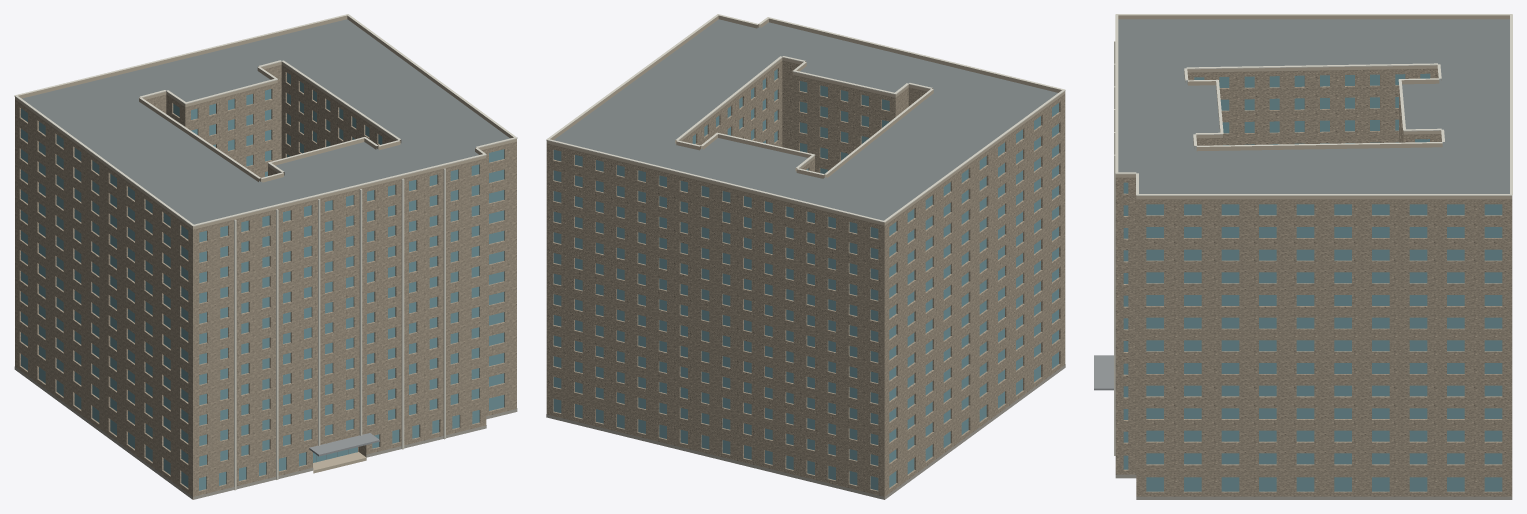
The picture shows the model from 3 angles, left to right: view 1: azimuth 30°, elevation 25°; view 2: azimuth 150°, elevation 25°; view 3: azimuth 270°, elevation 25°; orthographic projection. The views are drawn at different scales.
Visible parts, largest first — view 1: dormMale__wall, dormMale__roof, dormMale__glass, dormMale__trim, dormMale__parapet, dormMale__base, dormMale__canopy, dormMale__entranceThreshold_0; view 2: dormMale__wall, dormMale__roof, dormMale__glass, dormMale__parapet, dormMale__trim, dormMale__base; view 3: dormMale__wall, dormMale__roof, dormMale__glass, dormMale__parapet, dormMale__trim, dormMale__base, dormMale__canopy.
Part boxes in pixels (bbox=[...]): dormMale__wall: bbox=[15, 64, 516, 499]; dormMale__roof: bbox=[22, 19, 509, 224]; dormMale__glass: bbox=[21, 73, 504, 490]; dormMale__trim: bbox=[14, 14, 517, 490]; dormMale__parapet: bbox=[15, 15, 516, 229]; dormMale__base: bbox=[14, 366, 517, 499]; dormMale__canopy: bbox=[309, 433, 379, 456]; dormMale__entranceThreshold_0: bbox=[313, 452, 366, 473]; dormMale__wall: bbox=[546, 60, 1065, 499]; dormMale__roof: bbox=[554, 19, 1057, 220]; dormMale__glass: bbox=[553, 69, 1058, 490]; dormMale__parapet: bbox=[546, 15, 1065, 225]; dormMale__trim: bbox=[546, 14, 1065, 222]; dormMale__base: bbox=[546, 364, 1065, 499]; dormMale__wall: bbox=[1115, 68, 1512, 496]; dormMale__roof: bbox=[1118, 19, 1509, 193]; dormMale__glass: bbox=[1123, 73, 1502, 491]; dormMale__parapet: bbox=[1115, 15, 1512, 199]; dormMale__trim: bbox=[1114, 14, 1512, 455]; dormMale__base: bbox=[1115, 474, 1512, 499]; dormMale__canopy: bbox=[1094, 355, 1113, 390].
Size of the model in its own units: 51.51 by 40.75 by 50.26.
Materials: 10 (1 with a texture image).
